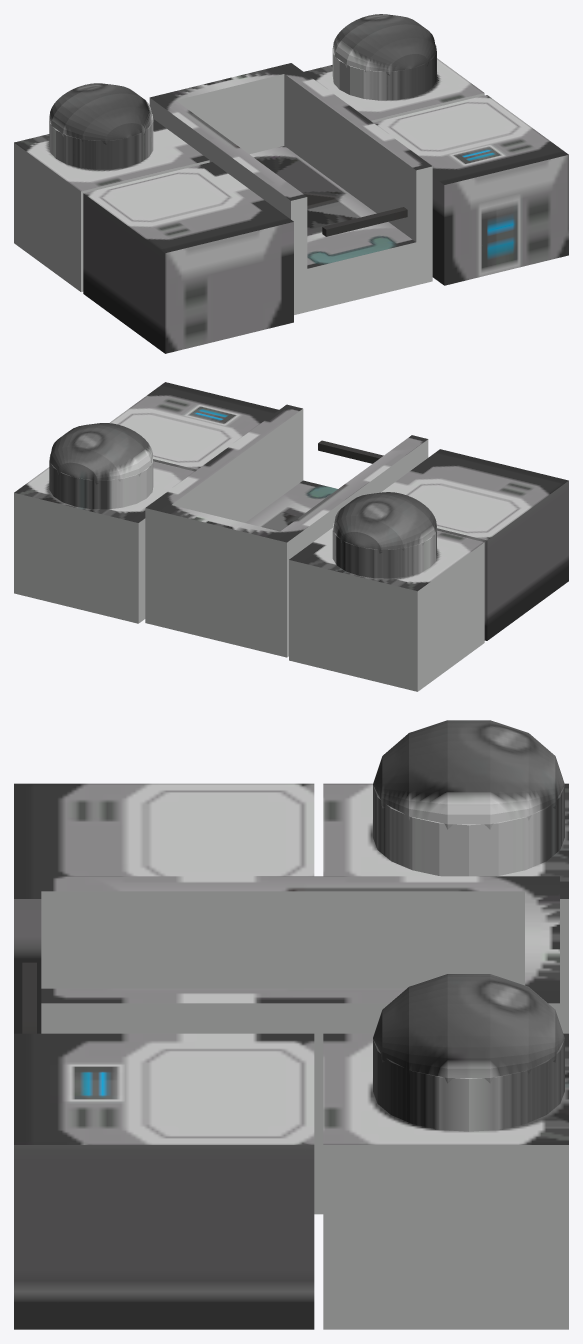
Rendered from Building_BiosculpterPod.obj.
3 views of the same model, one above another, from view 1: azimuth 30°, elevation 25°; view 2: azimuth 150°, elevation 25°; view 3: azimuth 270°, elevation 25° (orthographic). The views are drawn at different scales.
Parts seen in each view (by area): view 1: Body; view 2: Body; view 3: Body.
Boxes of the visible parts, x1,y1,x2,y2 form: Body: [14, 14, 568, 353]; Body: [14, 382, 568, 691]; Body: [14, 720, 568, 1329].
Size of the model in its own units: 2.94 by 1.09 by 1.91.
Materials: 1 (1 with a texture image).
